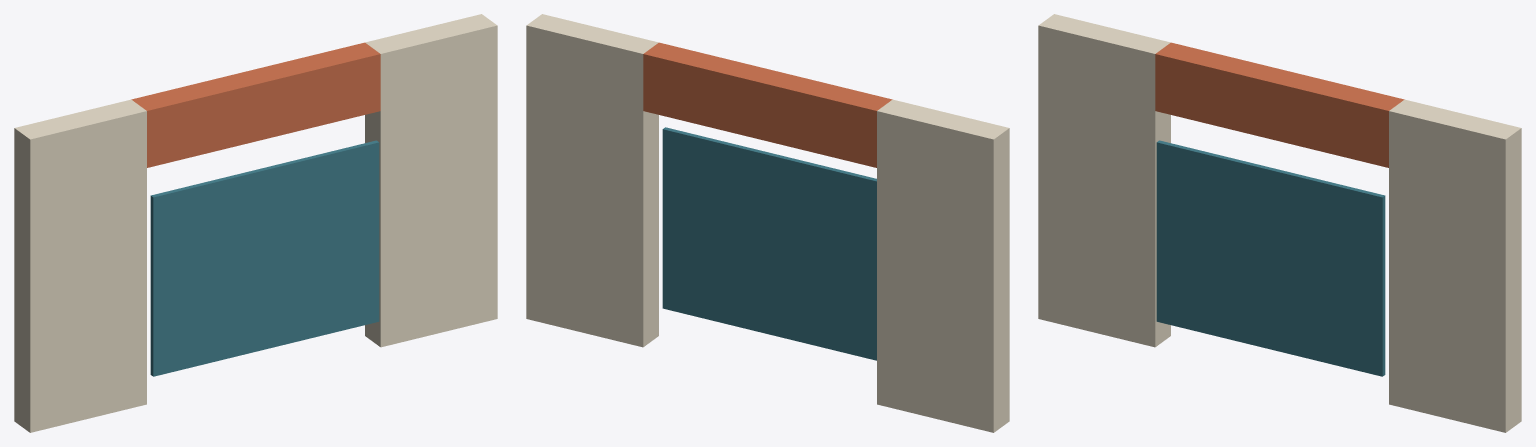
Rendered from bh_supermarket_storefront_a_01.glb.
The picture shows the model from 3 angles, left to right: view 1: azimuth 30°, elevation 25°; view 2: azimuth 150°, elevation 25°; view 3: azimuth 330°, elevation 25°; orthographic projection.
Parts seen in each view (by area): view 1: bh_supermarket_storefront_a_01_glazing, bh_supermarket_storefront_a_01_wall_l, bh_supermarket_storefront_a_01_wall_r, bh_supermarket_storefront_a_01_header; view 2: bh_supermarket_storefront_a_01_wall_l, bh_supermarket_storefront_a_01_wall_r, bh_supermarket_storefront_a_01_glazing, bh_supermarket_storefront_a_01_header; view 3: bh_supermarket_storefront_a_01_glazing, bh_supermarket_storefront_a_01_wall_r, bh_supermarket_storefront_a_01_wall_l, bh_supermarket_storefront_a_01_header.
Boxes of the visible parts, left/top/right/bottom form: bh_supermarket_storefront_a_01_glazing: left=150, top=140, right=379, bottom=376; bh_supermarket_storefront_a_01_wall_l: left=14, top=99, right=146, bottom=432; bh_supermarket_storefront_a_01_wall_r: left=365, top=14, right=497, bottom=347; bh_supermarket_storefront_a_01_header: left=131, top=42, right=380, bottom=167; bh_supermarket_storefront_a_01_wall_l: left=877, top=99, right=1009, bottom=432; bh_supermarket_storefront_a_01_wall_r: left=526, top=14, right=658, bottom=347; bh_supermarket_storefront_a_01_glazing: left=662, top=127, right=876, bottom=360; bh_supermarket_storefront_a_01_header: left=643, top=42, right=892, bottom=167; bh_supermarket_storefront_a_01_glazing: left=1156, top=140, right=1385, bottom=376; bh_supermarket_storefront_a_01_wall_r: left=1389, top=99, right=1521, bottom=432; bh_supermarket_storefront_a_01_wall_l: left=1038, top=14, right=1170, bottom=347; bh_supermarket_storefront_a_01_header: left=1155, top=42, right=1404, bottom=167.
Bounding box in the file's own units: 6 × 3.6 × 0.405.
